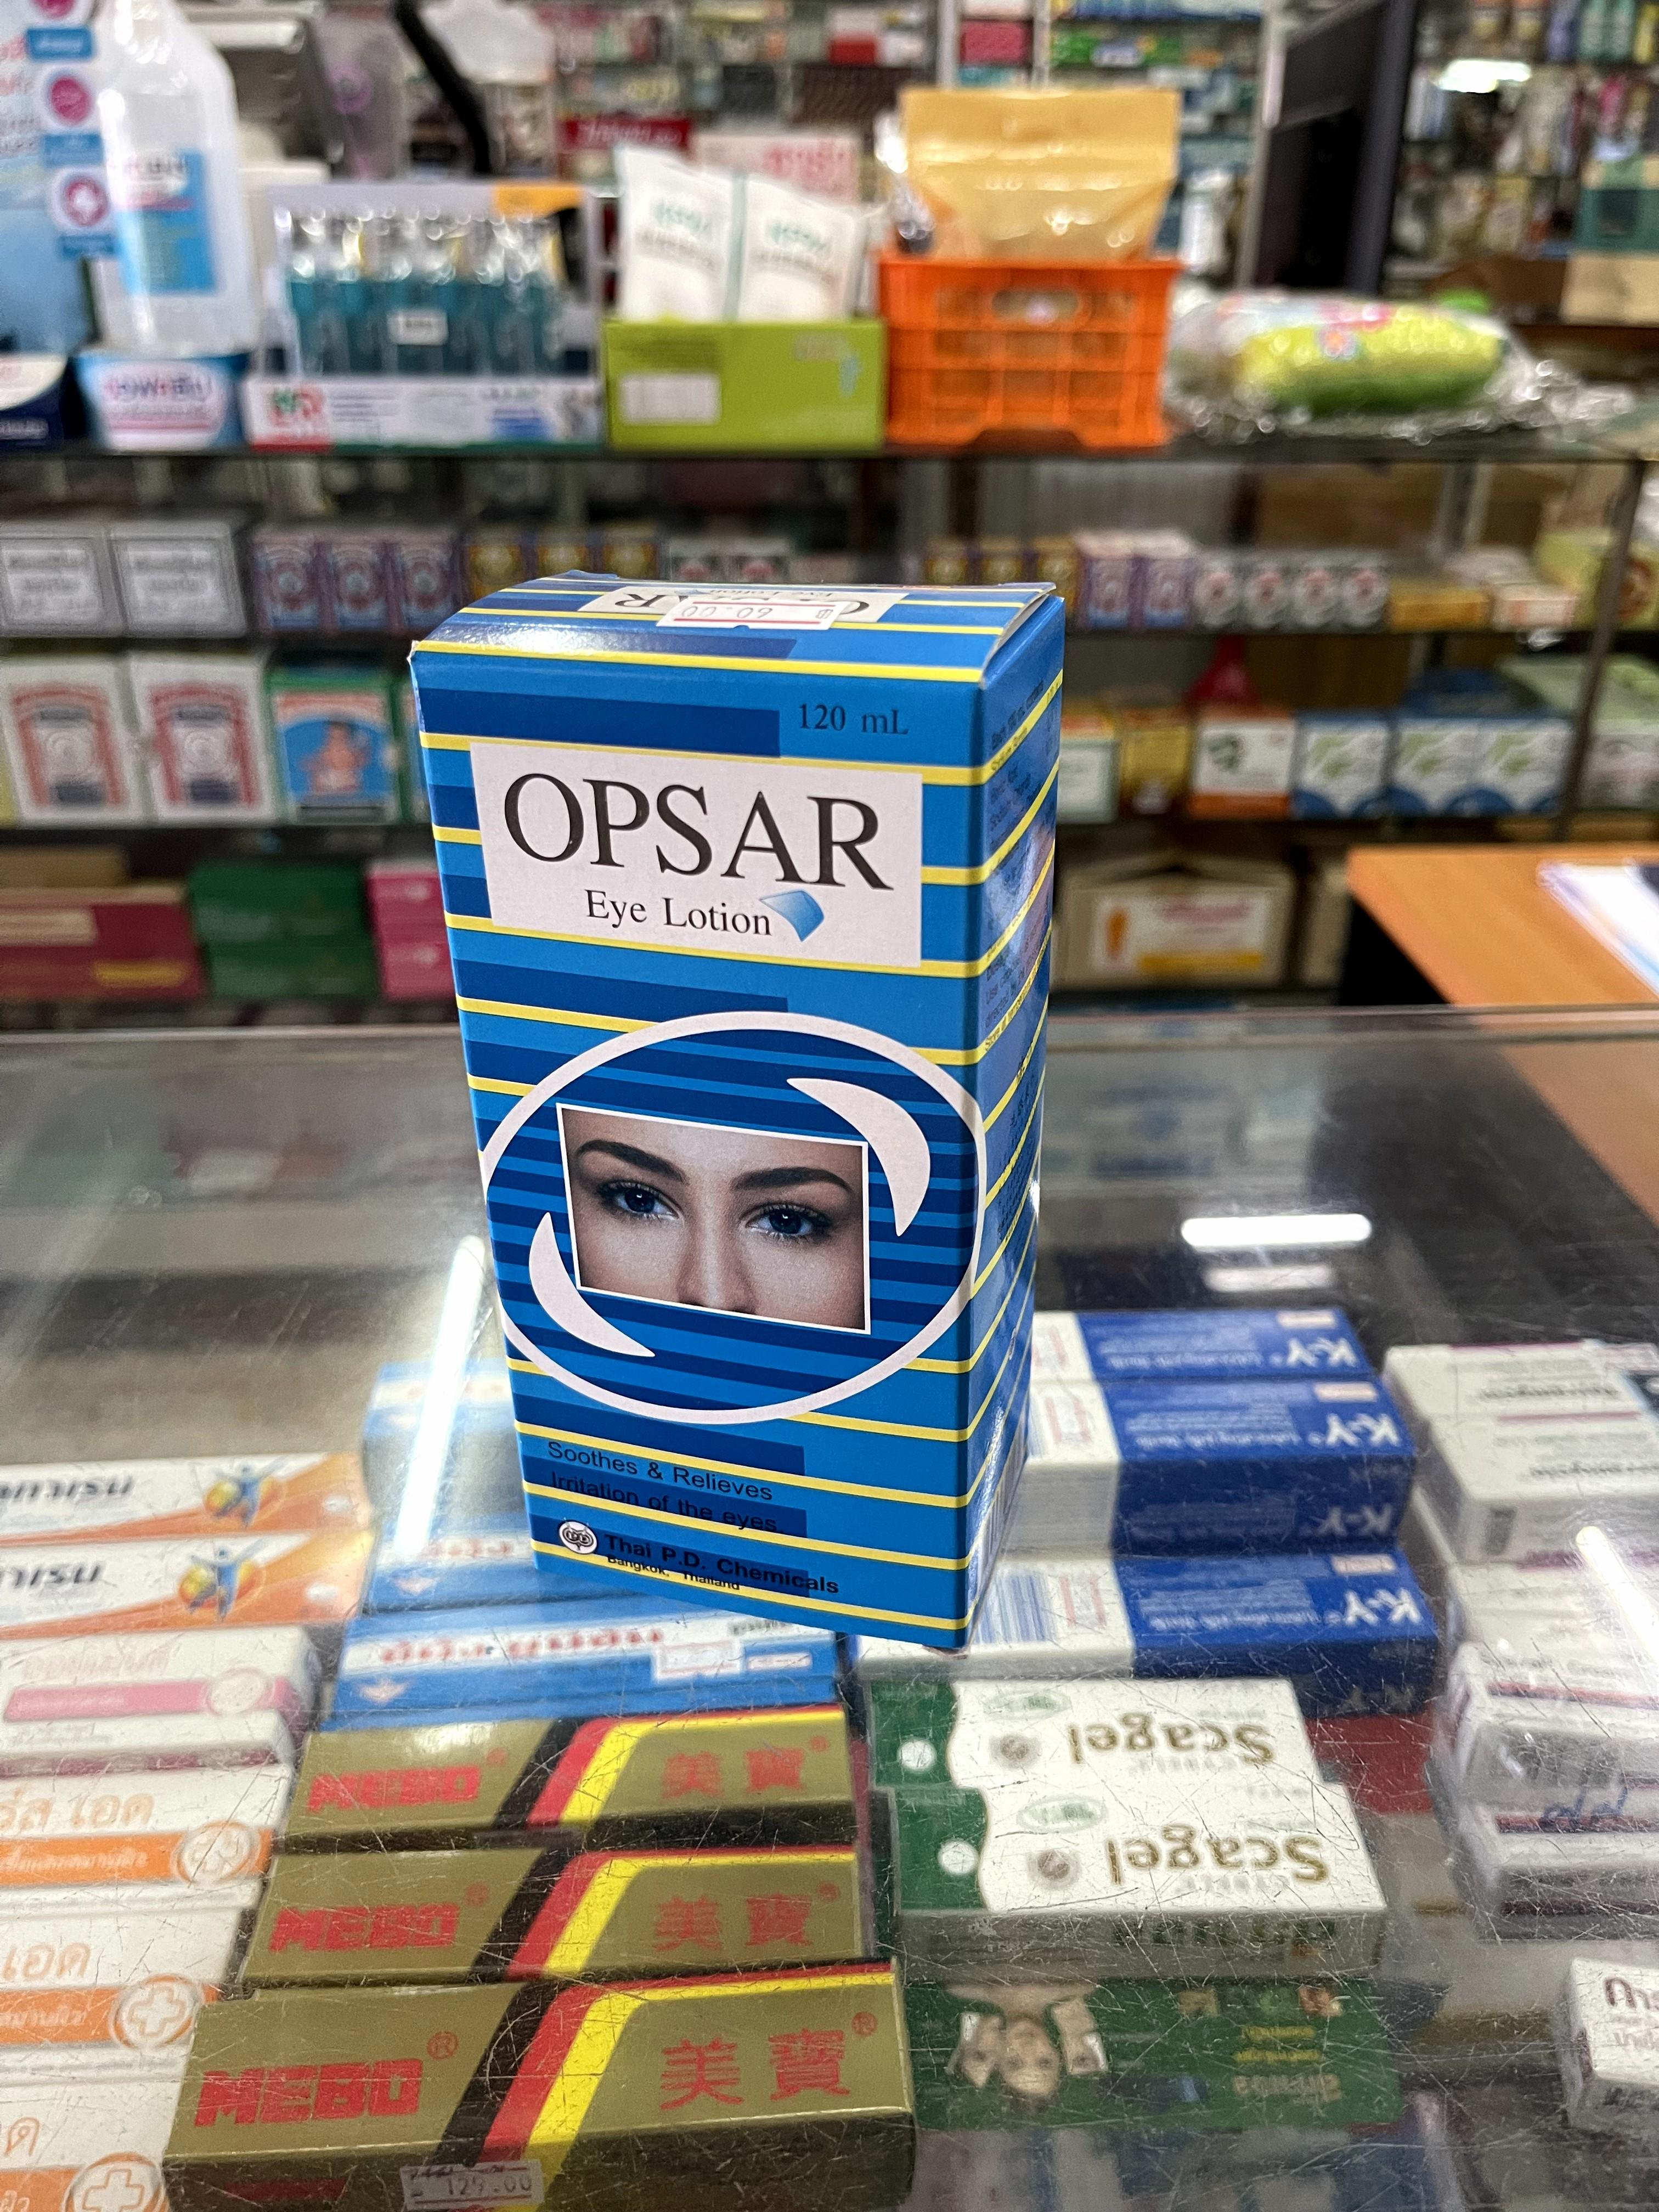Opsar: (420, 577, 1053, 1651)
